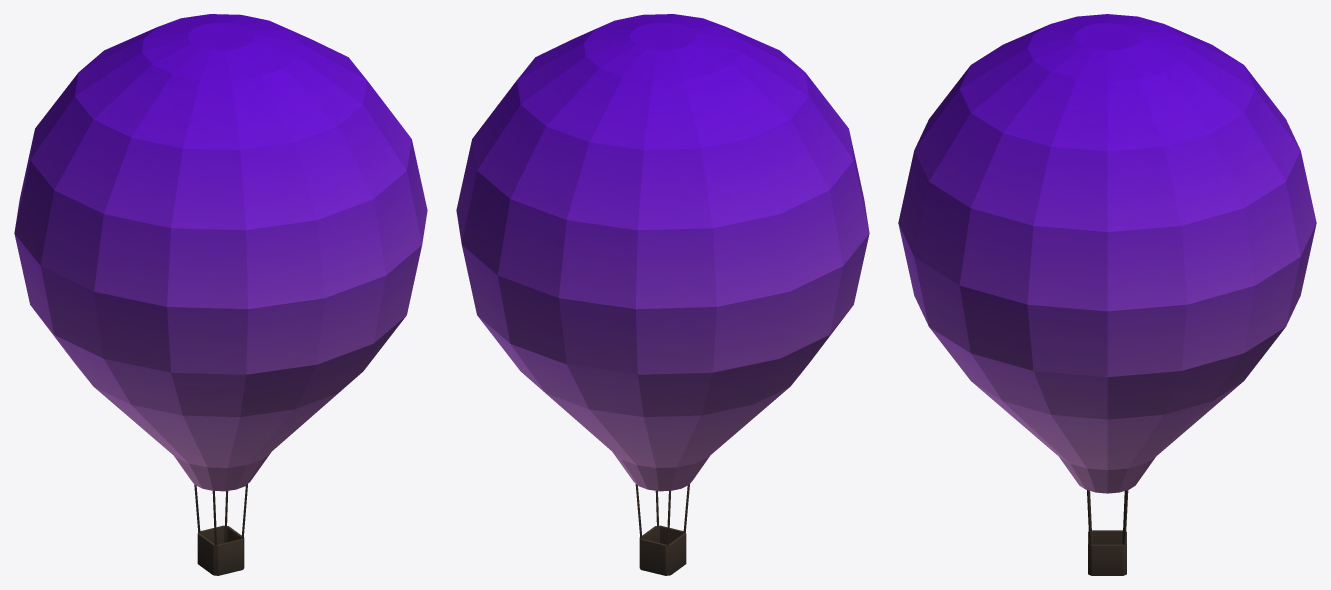
File: prop_baloon_I.FBX
3 renders of one model, left to right at view 1: azimuth 30°, elevation 25°; view 2: azimuth 150°, elevation 25°; view 3: azimuth 270°, elevation 25°, orthographic.
Parts seen in each view (by area): view 1: prop_baloon_I; view 2: prop_baloon_I; view 3: prop_baloon_I.
Part boxes in pixels (bbox=[...]): prop_baloon_I: bbox=[14, 14, 427, 575]; prop_baloon_I: bbox=[456, 14, 869, 575]; prop_baloon_I: bbox=[898, 14, 1316, 575].
Bounding box in the file's own units: 591 × 828 × 591.
1 material, 1 textured.
